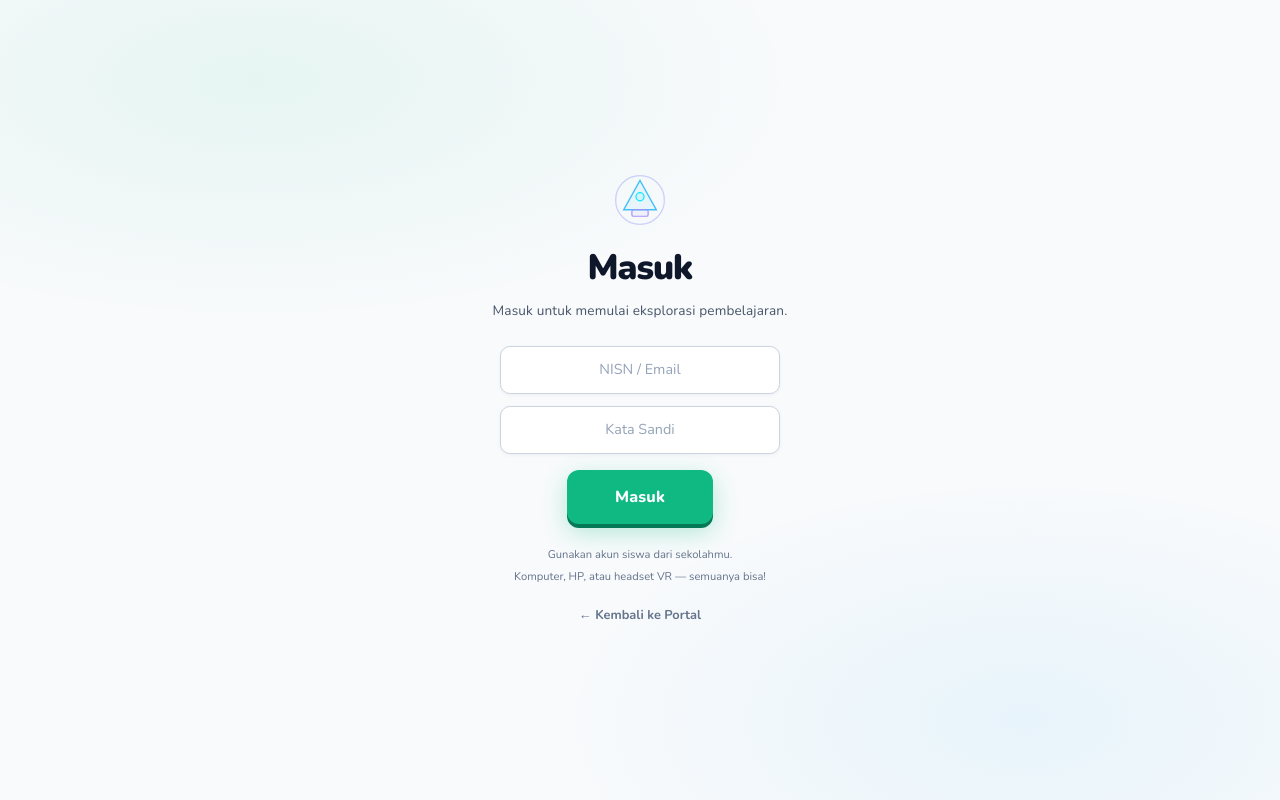
Test case: PRD #55 critical frontend tests › 2. successful login returns to intended destination
This screenshot has width=1280, height=800.
Expected: the heading "Masuk" is shown, 588,238 -> 692,296
Type "siswa" into the field labelled "NISN / Email" at (640, 370), box 500,346 -> 780,394
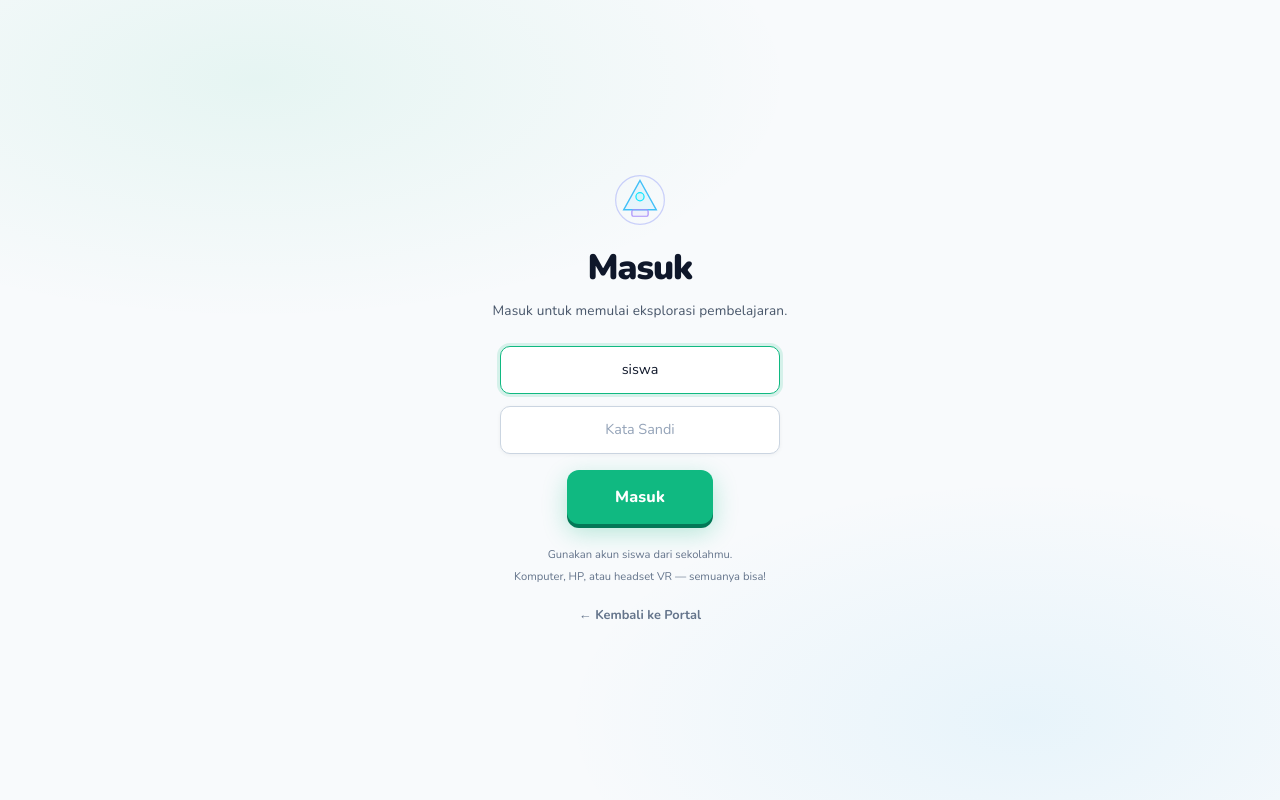
Type "rahasia" into the password field labelled "Kata Sandi" at (640, 430), box 500,406 -> 780,454
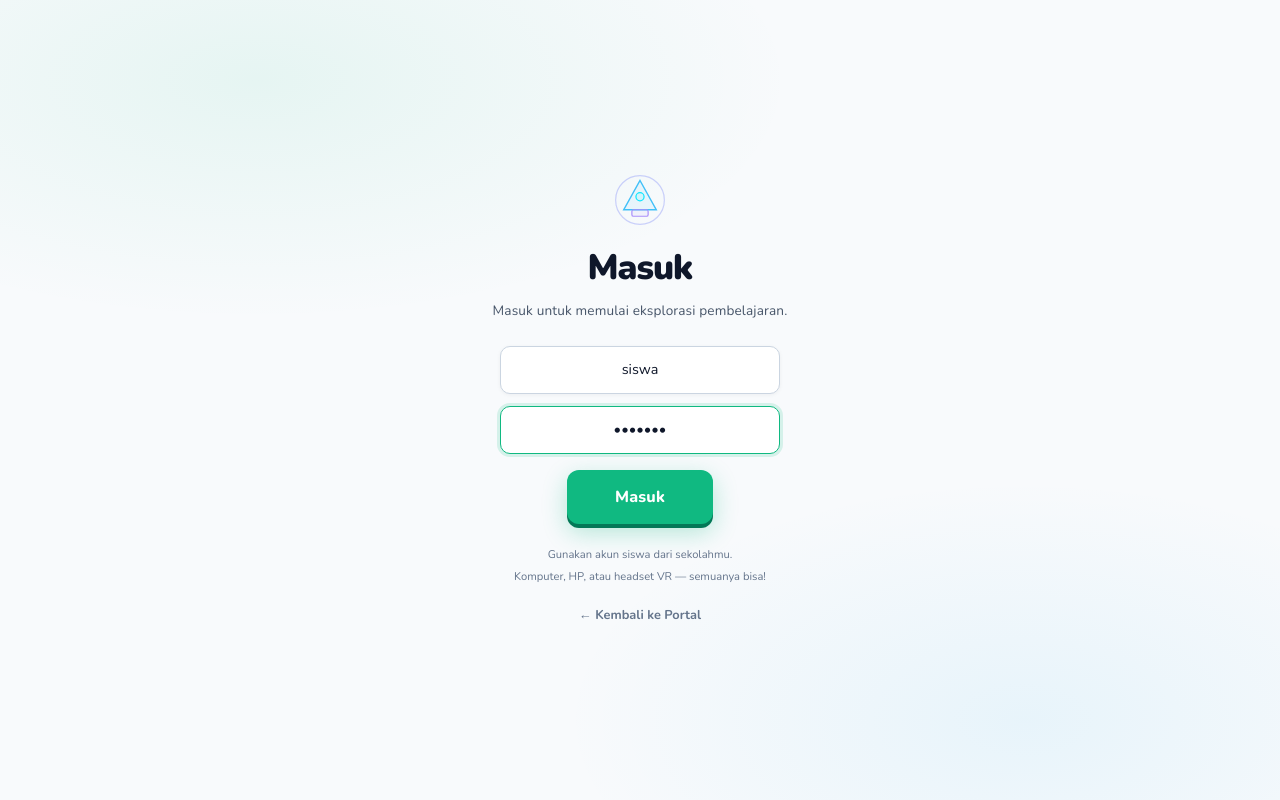
Click the button "Masuk" at (640, 497), box 567,470 -> 713,524
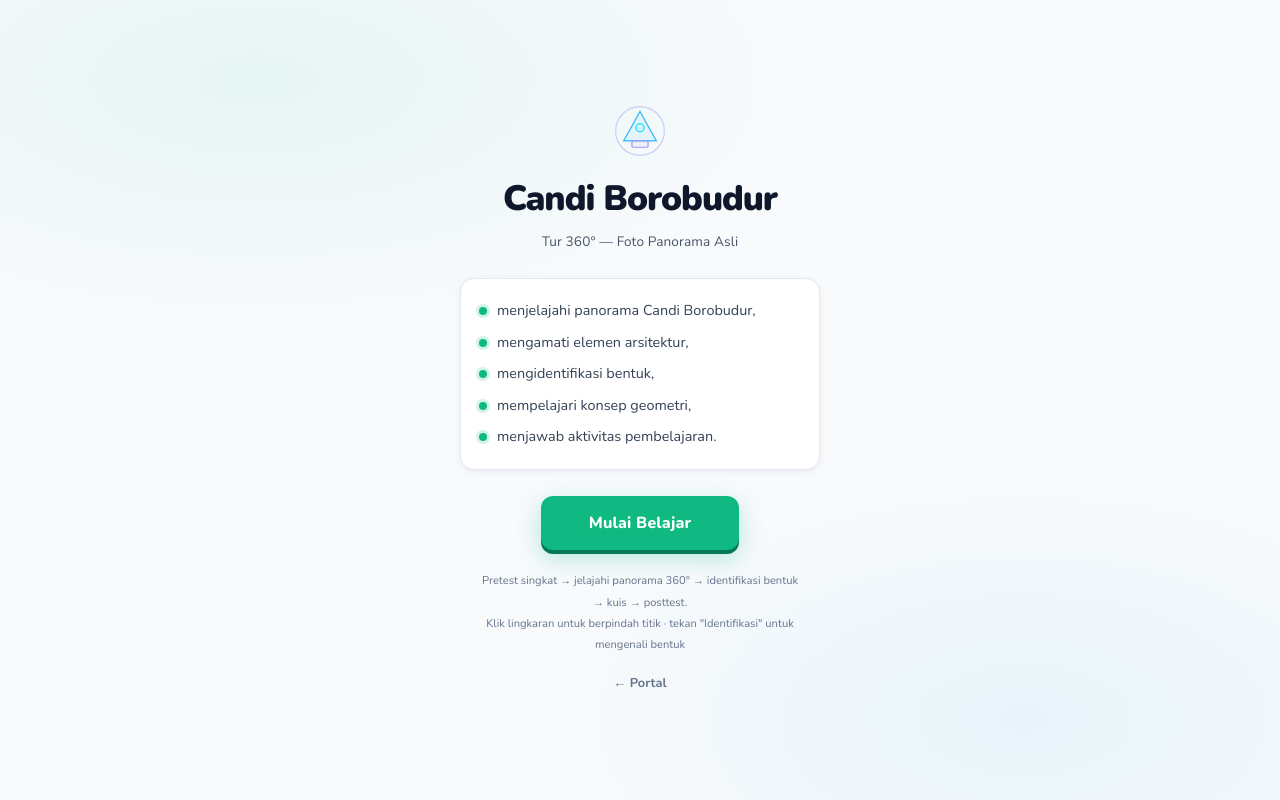
Expected: the heading "Candi Borobudur" is shown, 503,169 -> 777,228
